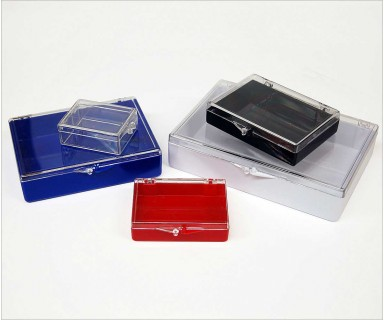PlasticBox: (127, 175, 231, 247)
